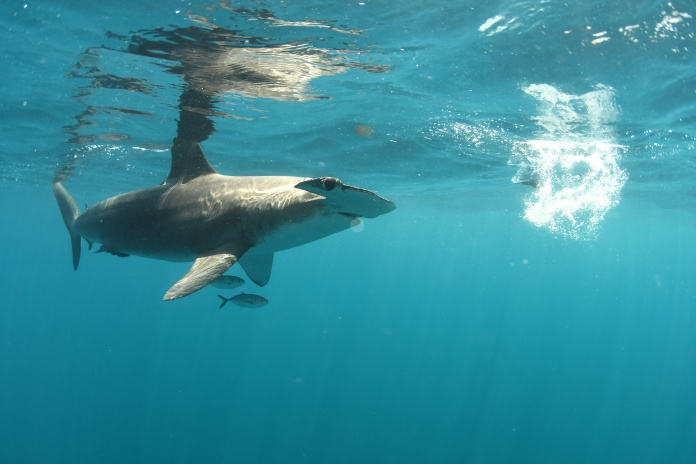Hammer: (37, 132, 432, 320)
